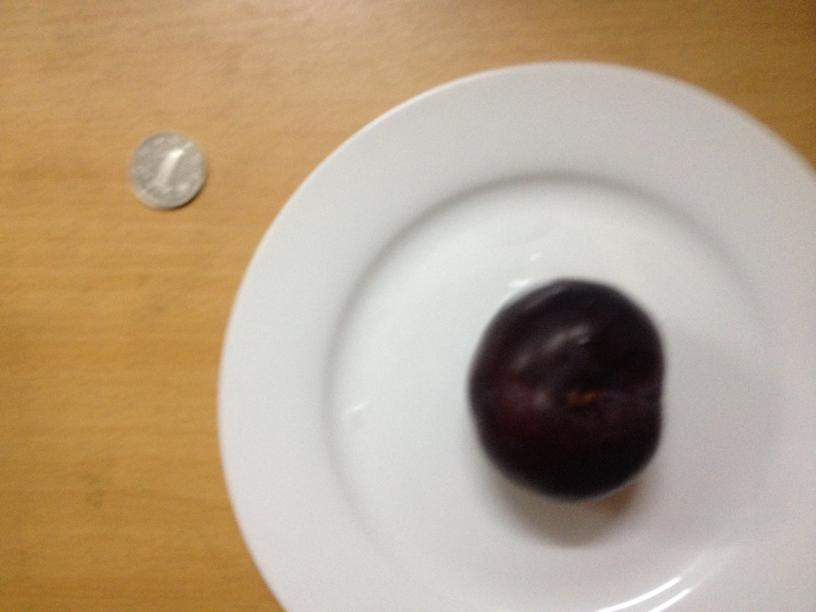coin: (132, 135, 205, 209)
plum: (461, 280, 668, 495)
